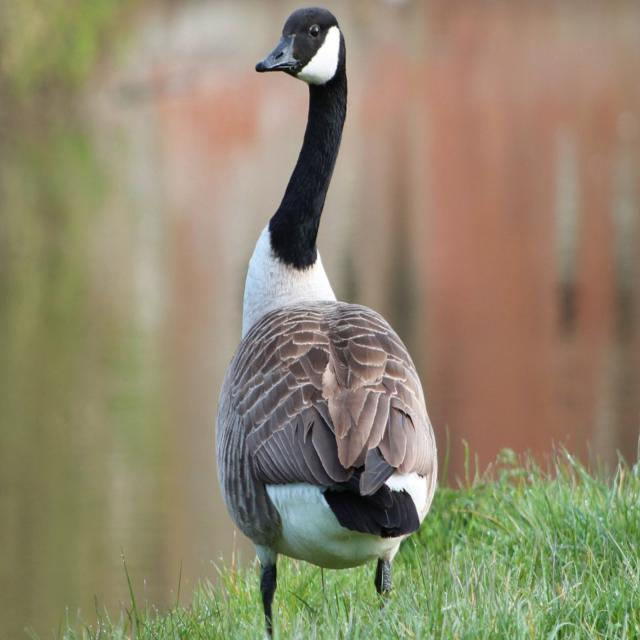Goose: (215, 3, 437, 640)
